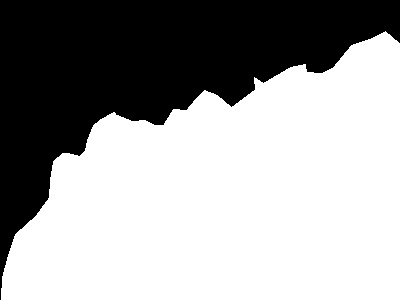Fire: (95, 109, 379, 252)
